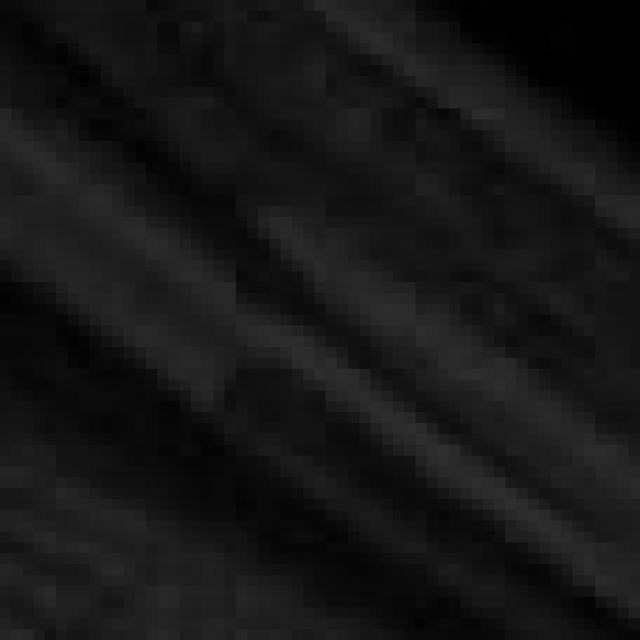fracture: (0, 3, 640, 640)
